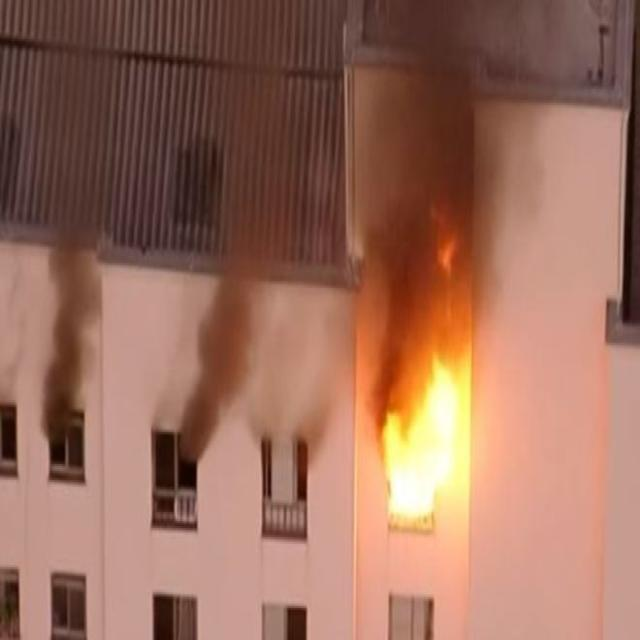Fire: (433, 230, 461, 272)
Smoke: (355, 14, 548, 386), (181, 58, 292, 456), (36, 69, 124, 434), (253, 309, 344, 448)
